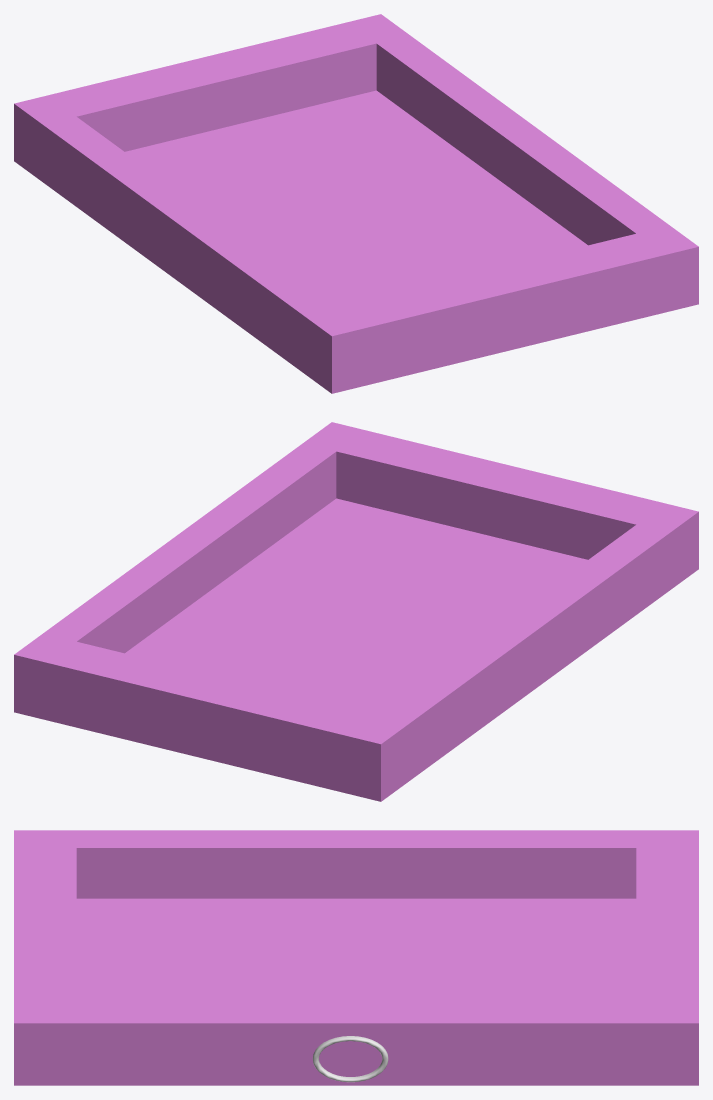
File: vanity long drawer.fbx
The picture shows the model from 3 angles, top to bottom: view 1: azimuth 30°, elevation 25°; view 2: azimuth 150°, elevation 25°; view 3: azimuth 270°, elevation 25°; orthographic projection. The views are drawn at different scales.
Visible parts, largest first — view 1: Cube.008; view 2: Cube.008; view 3: Cube.008.
Boxes of the visible parts, bbox=[...] form: Cube.008: bbox=[14, 14, 698, 393]; Cube.008: bbox=[14, 422, 698, 801]; Cube.008: bbox=[14, 830, 698, 1085].
Size of the model in its own units: 40.51 by 6 by 60.
